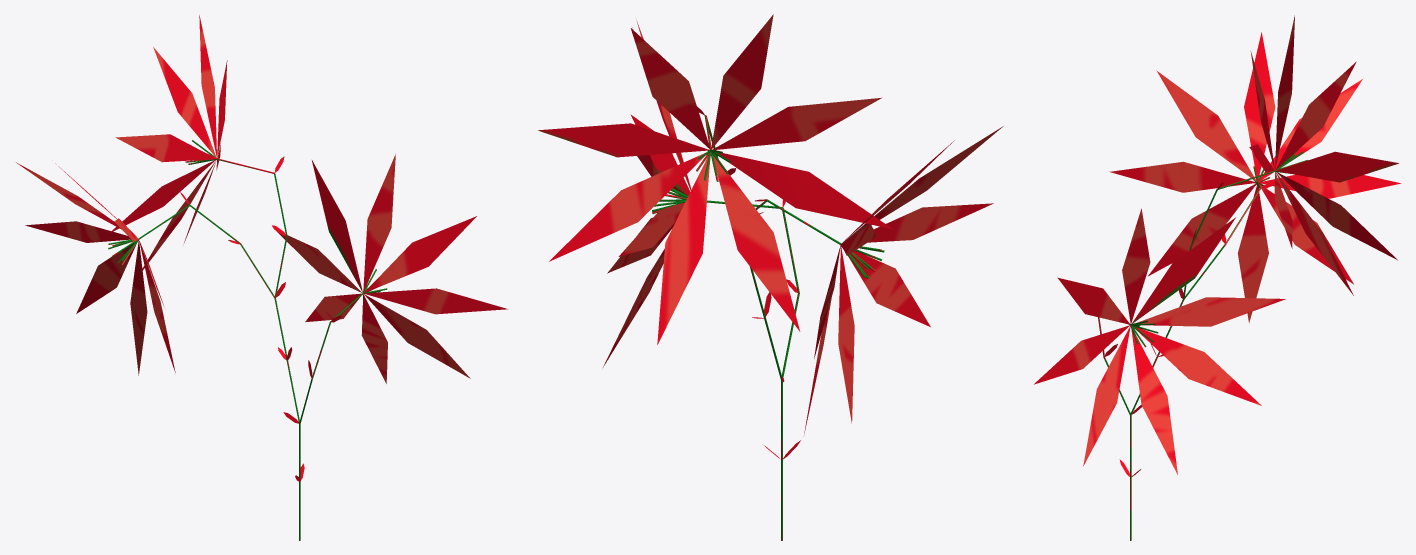
File: big-color-flower-red.obj
3 renders of one model, left to right at view 1: azimuth 30°, elevation 25°; view 2: azimuth 150°, elevation 25°; view 3: azimuth 270°, elevation 25°, orthographic. The views are drawn at different scales.
Visible parts, largest first — view 1: MyObject; view 2: MyObject; view 3: MyObject.
Boxes of the visible parts, x1,y1,x2,y2 form: MyObject: (16,15,507,540); MyObject: (538,14,1003,540); MyObject: (1034,15,1401,540).
Size of the model in its own units: 37.8 by 46.87 by 31.99.
Materials: 1 (1 with a texture image).
